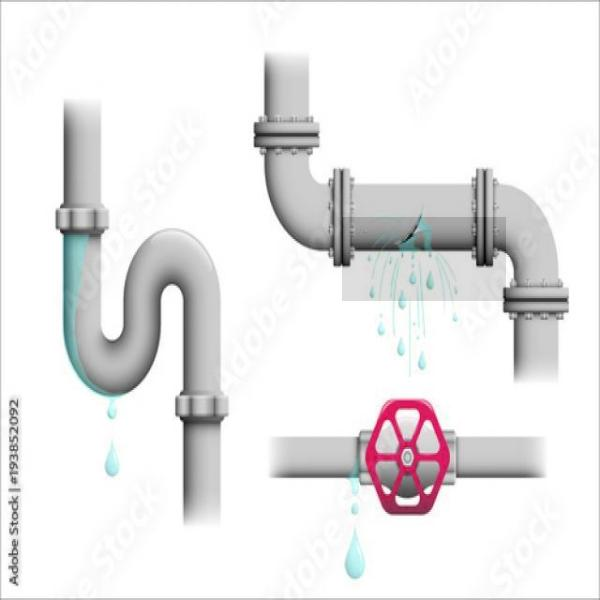water: (342, 217, 506, 301)
